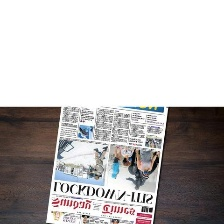news_paper: (41, 105, 174, 224)
